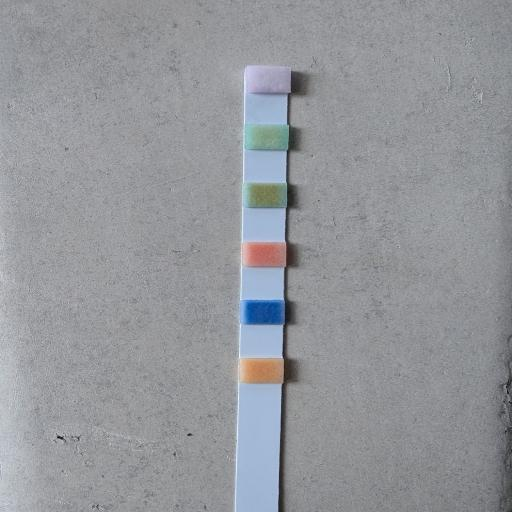strip: (235, 65, 291, 512)
